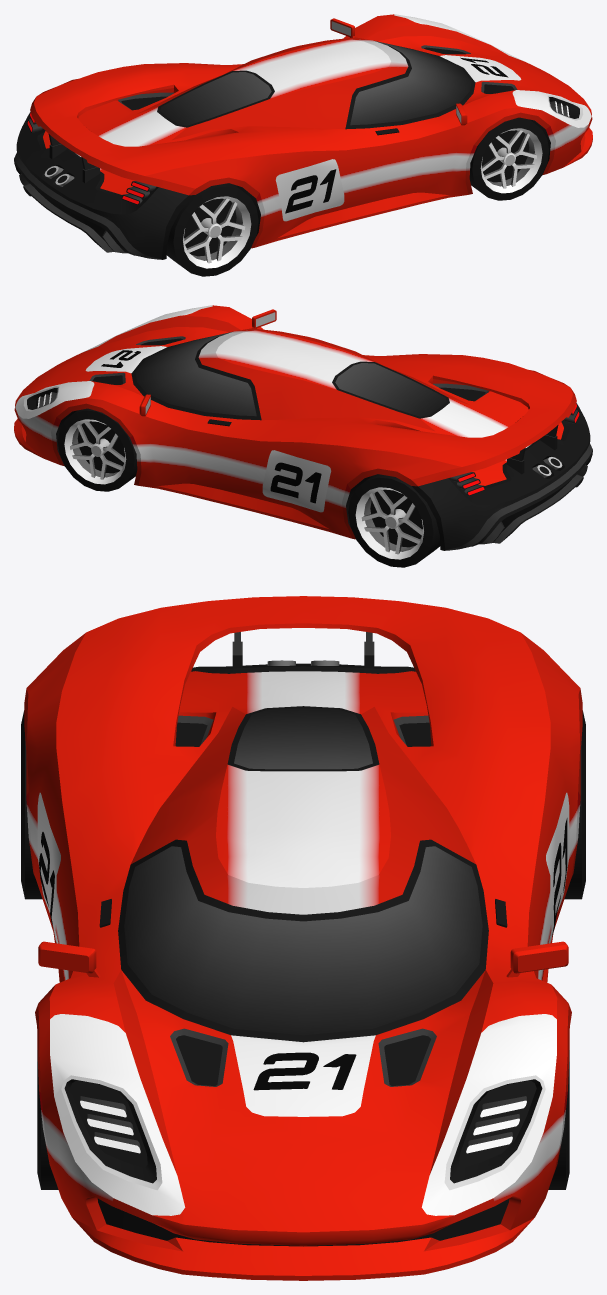
Rendered from Car_084.glb.
3 renders of one model, top to bottom at view 1: azimuth 30°, elevation 25°; view 2: azimuth 150°, elevation 25°; view 3: azimuth 270°, elevation 25°, orthographic. The views are drawn at different scales.
Parts seen in each view (by area): view 1: Car_084, wheel_3_Car_084_Wheel_2R, wheel_1_Car_084_Wheel_1R; view 2: Car_084, wheel_2_Car_084_Wheel_2L, wheel_0_Car_084_Wheel_1L; view 3: Car_084, wheel_2_Car_084_Wheel_2L, wheel_3_Car_084_Wheel_2R, wheel_0_Car_084_Wheel_1L, wheel_1_Car_084_Wheel_1R.
Part boxes in pixels (bbox=[...]): Car_084: bbox=[14, 14, 592, 259]; wheel_3_Car_084_Wheel_2R: bbox=[166, 183, 258, 276]; wheel_1_Car_084_Wheel_1R: bbox=[469, 117, 549, 200]; Car_084: bbox=[14, 305, 592, 550]; wheel_2_Car_084_Wheel_2L: bbox=[348, 474, 440, 567]; wheel_0_Car_084_Wheel_1L: bbox=[57, 408, 137, 491]; Car_084: bbox=[24, 596, 582, 1280]; wheel_2_Car_084_Wheel_2L: bbox=[564, 710, 585, 899]; wheel_3_Car_084_Wheel_2R: bbox=[21, 710, 42, 899]; wheel_0_Car_084_Wheel_1L: bbox=[548, 1050, 569, 1189]; wheel_1_Car_084_Wheel_1R: bbox=[37, 1050, 58, 1189].
Size of the model in its own units: 4.88 by 1.08 by 2.27.
3 materials, 3 textured.
